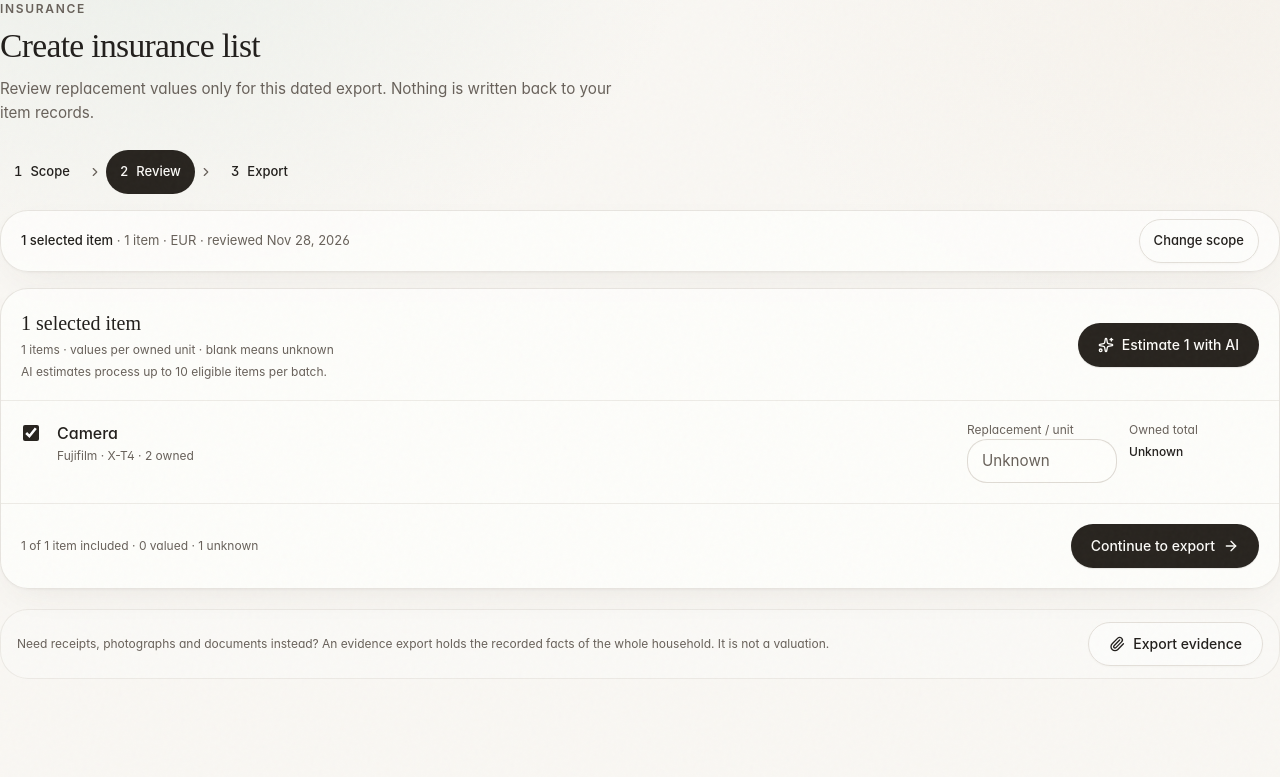
Test: InsurancePage › fills an editable AI estimate and exports reviewed values without applying them
The width and height of the screenshot is (1280, 777).
Step 1. Click the button "Estimate 1 with AI" → (1168, 344), box [1078, 322, 1259, 366]
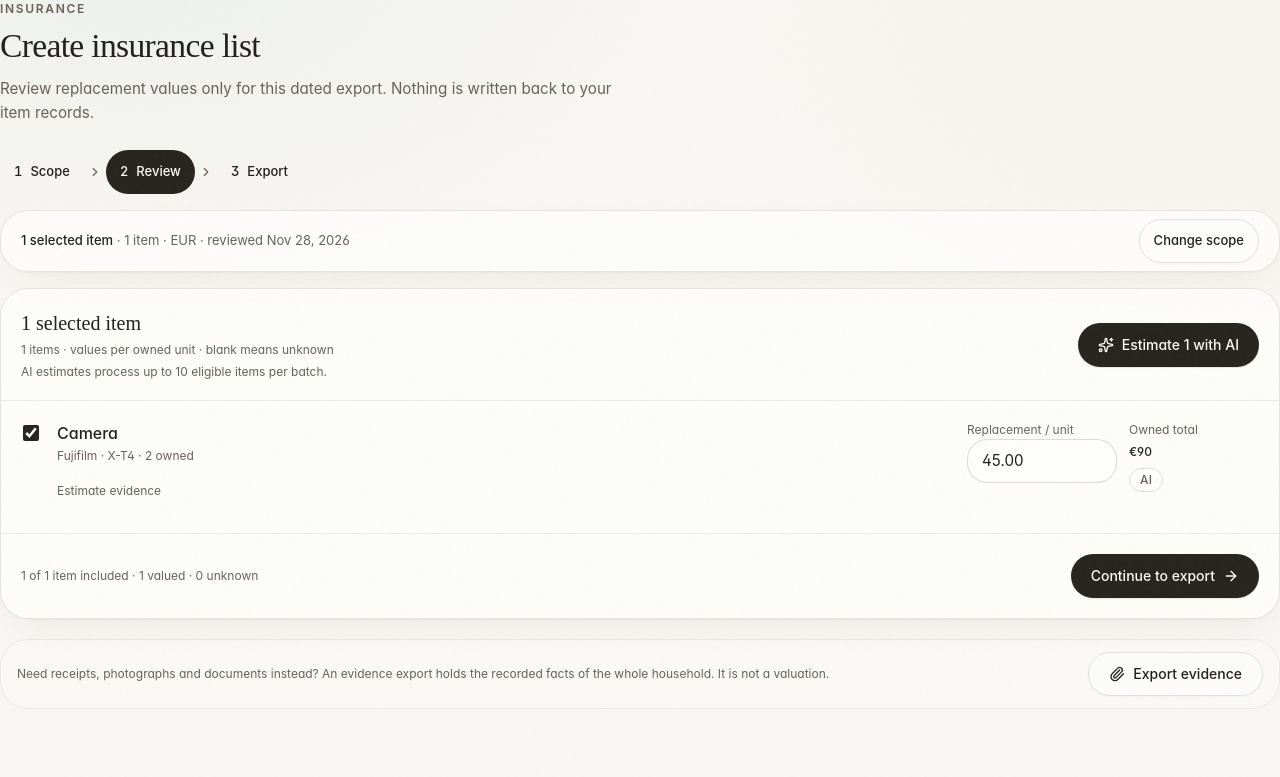
Step 2. Replace the text in the number field showing "45.00" with "50" → (1042, 461), box [967, 439, 1117, 483]
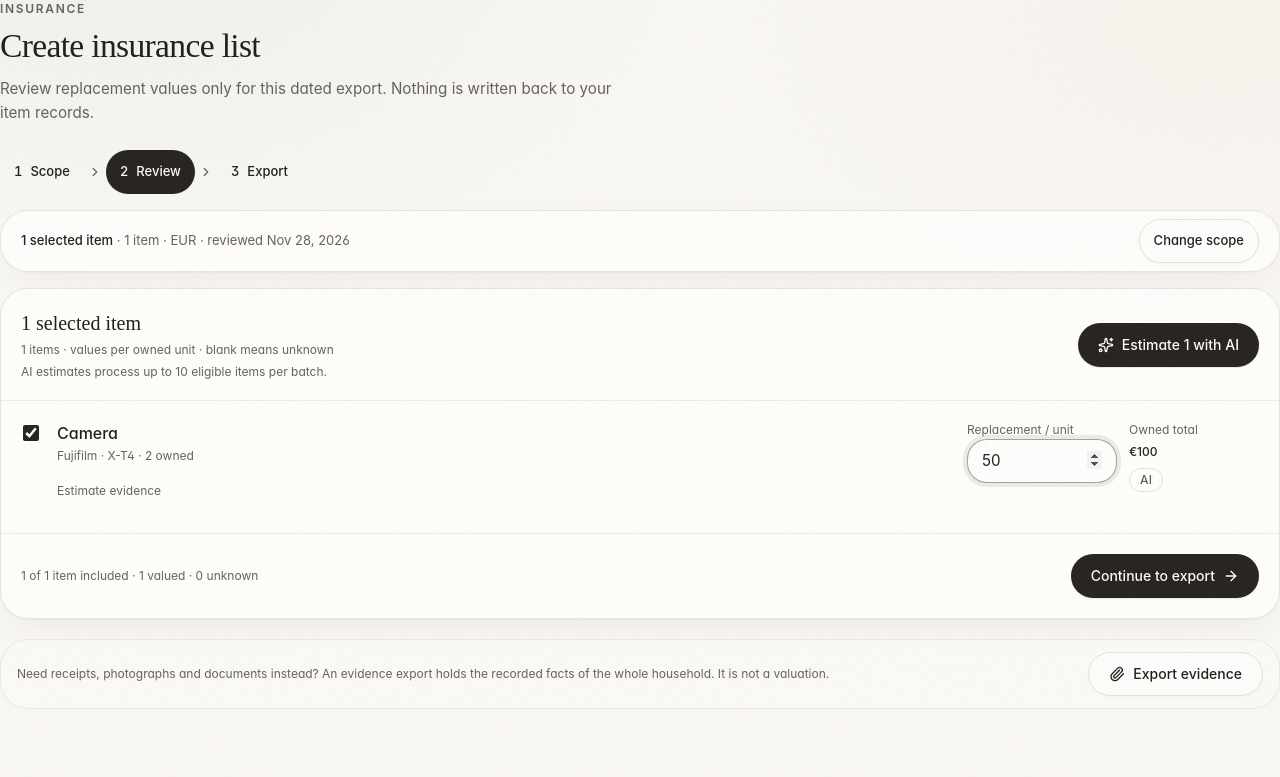
Now the text "€100" is shown, box [1129, 444, 1158, 459]
Step 3. Click the button "Continue to export" → (1165, 576), box [1071, 554, 1259, 598]
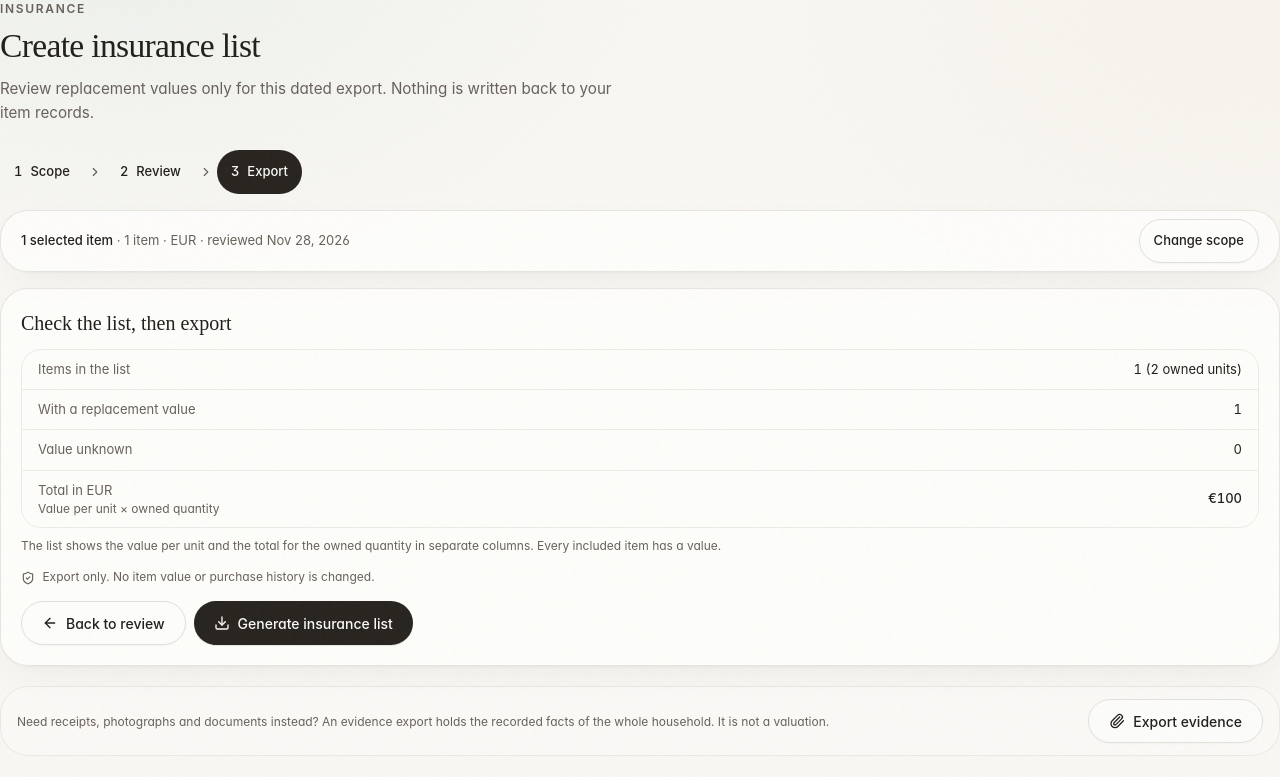
Now the text "€100" is shown, box [1208, 489, 1242, 509]
Now the text "1 (2 owned units)" is shown, box [1134, 360, 1242, 379]
Now the text "Value per unit × owned quantity" is shown, box [38, 500, 220, 517]
Step 4. Click the button "Generate insurance list" → (303, 624), box [194, 602, 413, 646]
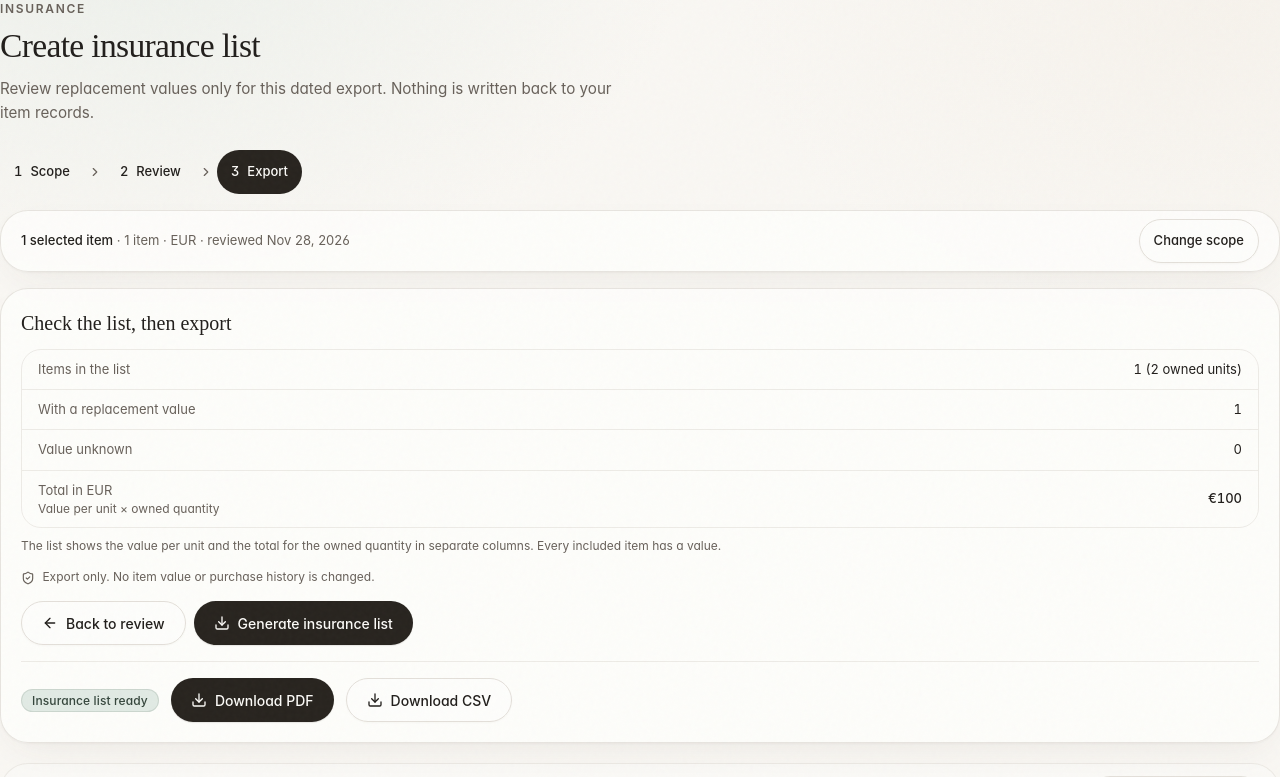
Now the link "Download PDF" is shown, box [171, 678, 334, 722]
Now the link "Download CSV" is shown, box [346, 678, 512, 722]
